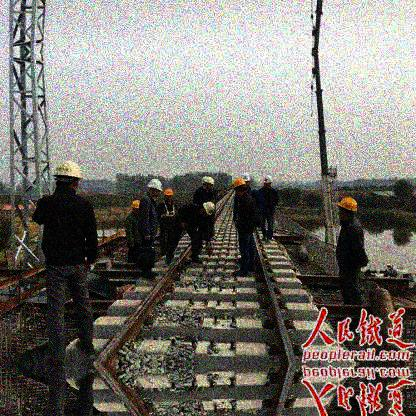helmet: (53, 161, 86, 190), (336, 197, 358, 221), (146, 179, 163, 199), (198, 201, 215, 218), (234, 179, 247, 196), (202, 177, 215, 192), (263, 175, 274, 189), (131, 200, 141, 214), (164, 189, 173, 201)
